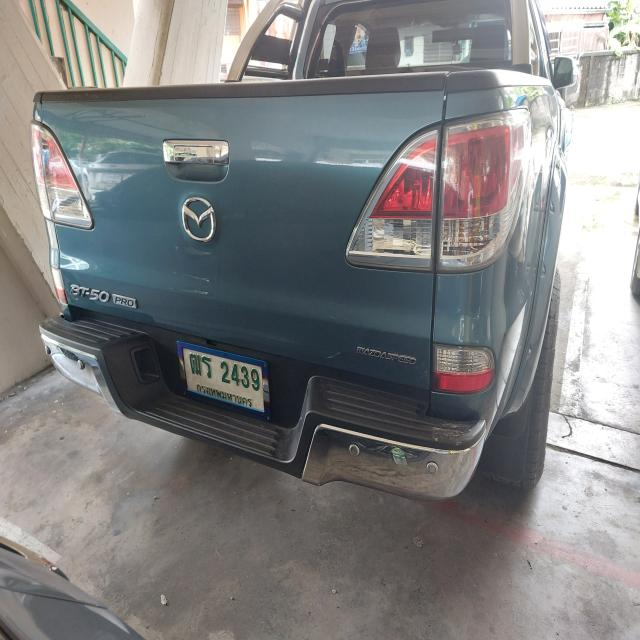license_plate: (175, 337, 275, 424)
